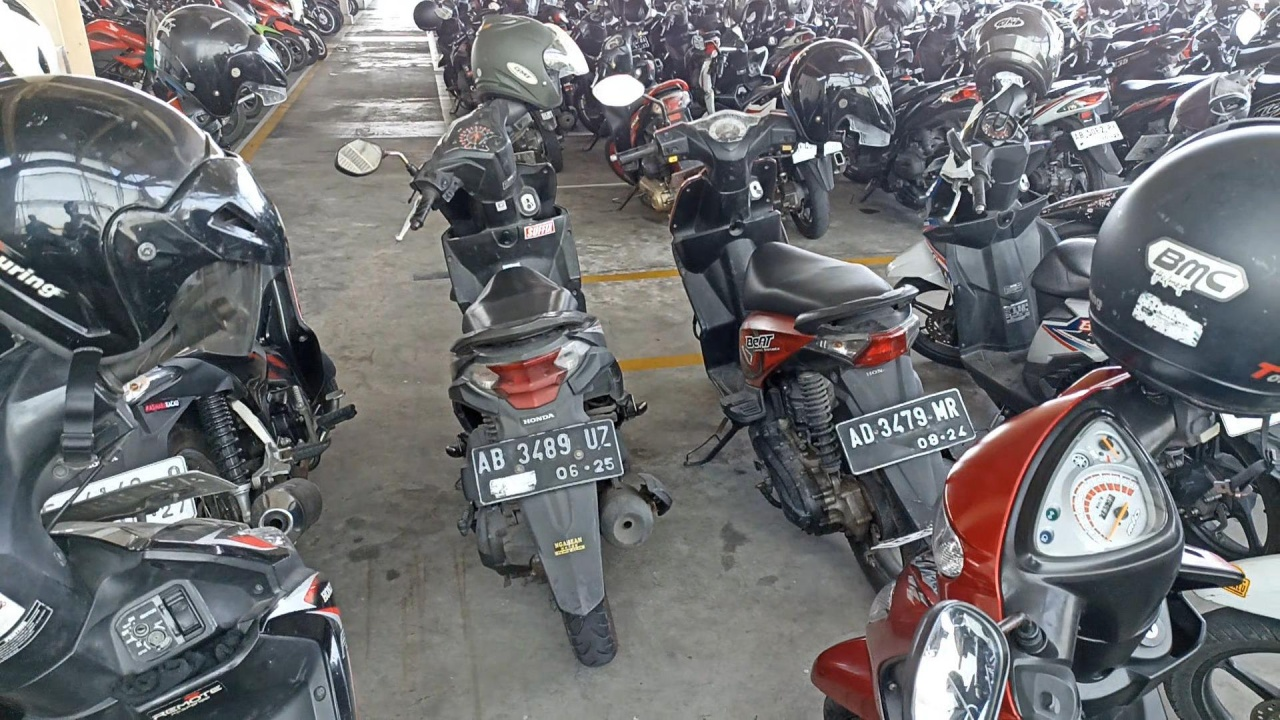plate: (471, 417, 625, 507), (836, 389, 976, 476)
